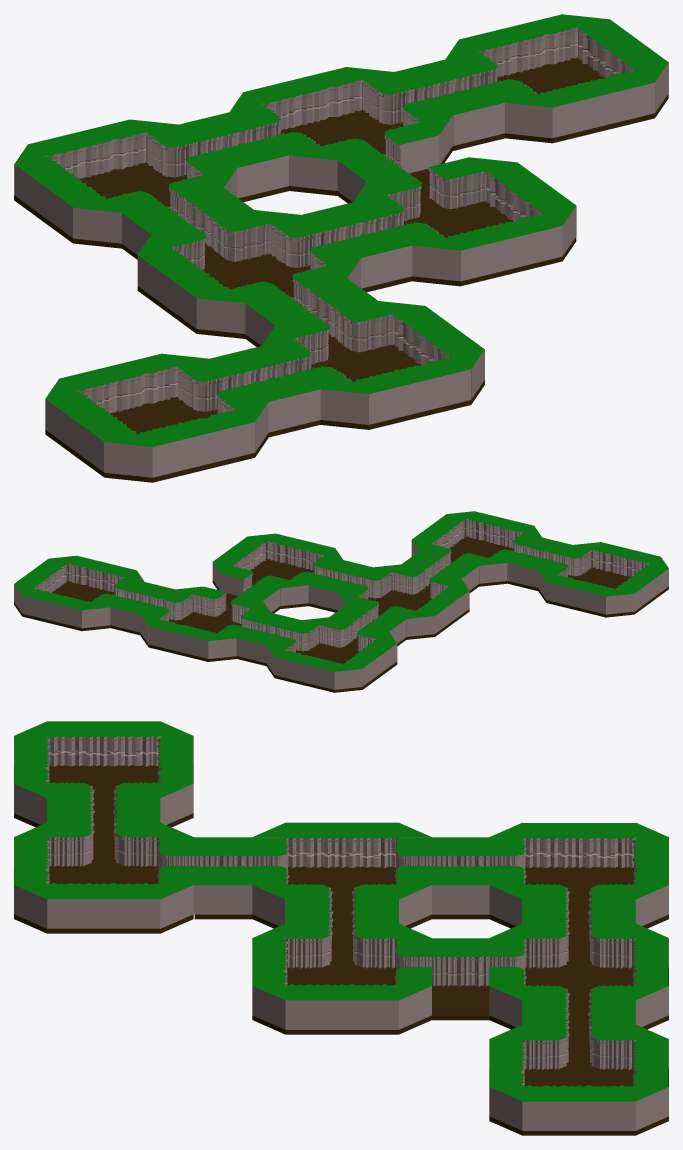
Rendered from BetaMap1.fbx.
3 renders of one model, top to bottom at view 1: azimuth 30°, elevation 25°; view 2: azimuth 150°, elevation 25°; view 3: azimuth 270°, elevation 25°, orthographic. The views are drawn at different scales.
Parts seen in each view (by area): view 1: Cube.026, Cube.028, Cube, Cube.024, Cube.031, Cube.027, Cube.025, Object.008, Object, Object.006, Object.007, Object.001 (+50 smaller); view 2: Cube.027, Cube.025, Cube.028, Cube.031, Cube.024, Cube, Cube.026, Object.001, Object.002, Object.005, Object.009, Object.007 (+47 smaller); view 3: Cube.025, Cube.026, Cube.028, Cube.031, Cube, Cube.024, Cube.027, Cube.089, Cube.001, Cube.081, Cube.088, Cube.041 (+51 smaller).
Part boxes in pixels (bbox=[...]): Cube.026: bbox=[262, 301, 484, 429]; Cube.028: bbox=[45, 353, 268, 482]; Cube: bbox=[353, 157, 576, 286]; Cube.024: bbox=[137, 210, 360, 338]; Cube.031: bbox=[445, 14, 668, 143]; Cube.027: bbox=[14, 119, 237, 248]; Cube.025: bbox=[230, 67, 452, 195]; Object.008: bbox=[136, 409, 254, 477]; Object: bbox=[444, 213, 562, 281]; Object.006: bbox=[536, 70, 654, 137]; Object.007: bbox=[352, 357, 470, 424]; Object.001: bbox=[244, 67, 362, 130]; Cube.027: bbox=[266, 617, 397, 692]; Cube.025: bbox=[140, 586, 270, 661]; Cube.028: bbox=[538, 542, 668, 617]; Cube.031: bbox=[14, 555, 144, 631]; Cube.024: bbox=[339, 564, 469, 639]; Cube: bbox=[212, 533, 342, 608]; Cube.026: bbox=[411, 511, 541, 586]; Object.001: bbox=[148, 619, 217, 658]; Object.002: bbox=[274, 650, 343, 689]; Object.005: bbox=[22, 588, 91, 627]; Object.009: bbox=[546, 575, 615, 614]; Object.007: bbox=[464, 511, 533, 548]; Cube.025: bbox=[489, 923, 668, 1029]; Cube.026: bbox=[14, 823, 193, 933]; Cube.028: bbox=[14, 721, 193, 827]; Cube.031: bbox=[489, 1024, 668, 1135]; Cube: bbox=[252, 923, 431, 1034]; Cube.024: bbox=[252, 822, 431, 928]; Cube.027: bbox=[489, 822, 668, 928]; Cube.089: bbox=[47, 882, 160, 928]; Cube.001: bbox=[285, 984, 398, 1029]; Cube.081: bbox=[522, 1085, 635, 1130]; Cube.088: bbox=[47, 721, 160, 766]; Cube.041: bbox=[285, 822, 398, 868].
Size of the model in its own units: 4857 by 204 by 3535.
